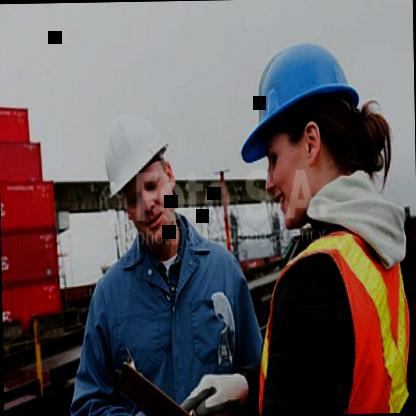helmet: (232, 31, 381, 224), (93, 102, 187, 246)
